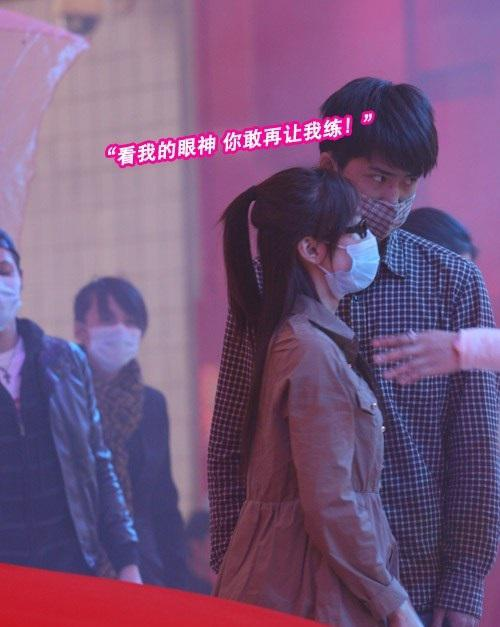OK: (326, 213, 380, 296), (86, 308, 142, 369), (1, 255, 26, 321)
WRONG: (340, 149, 417, 235)
